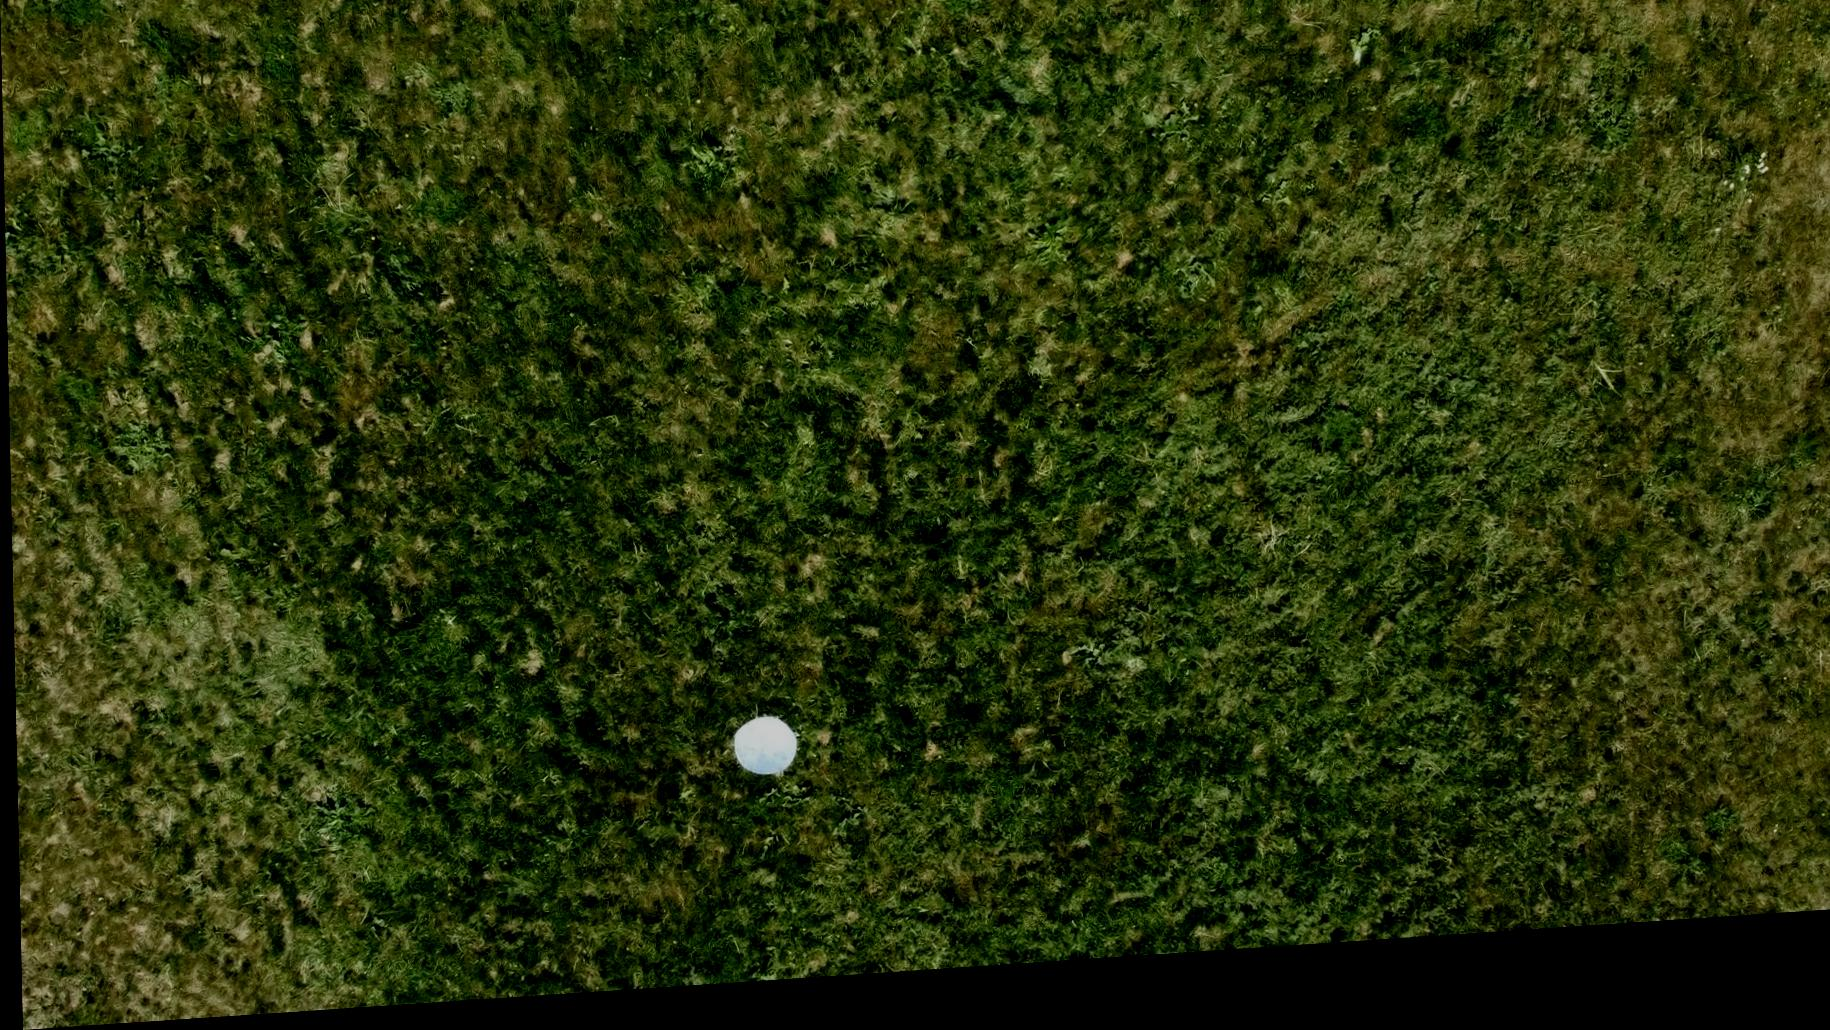Blue: (725, 723, 797, 790)
